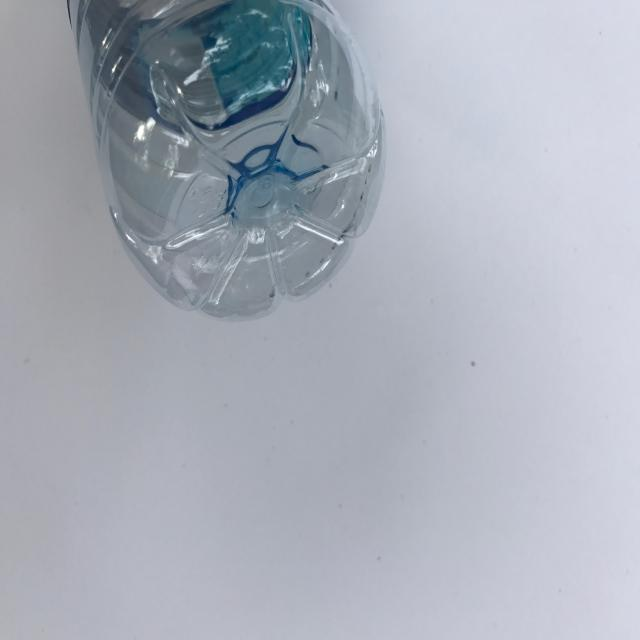plastic: (65, 0, 386, 320)
